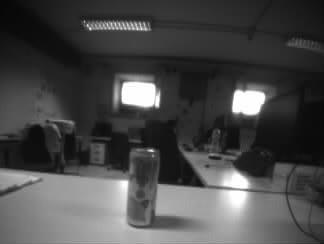Tin can: (127, 148, 159, 227)
